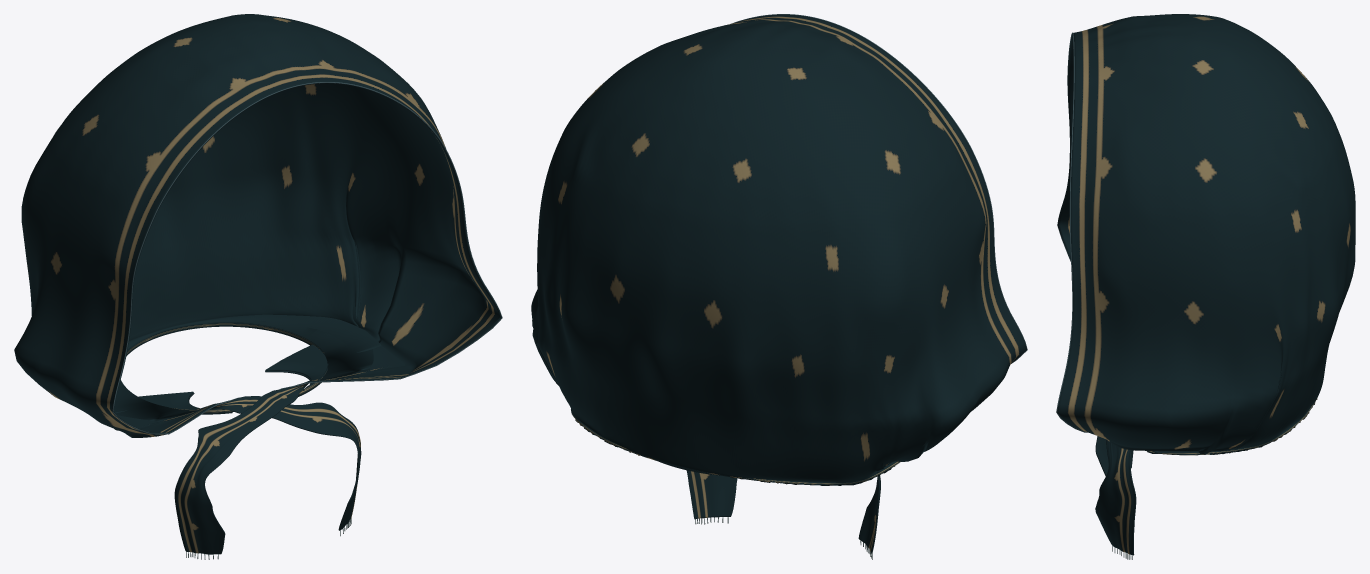
The model's file is Feminine-straight-bandeau-pashmina249-headgear.glb.
The picture shows the model from 3 angles, left to right: view 1: azimuth 30°, elevation 25°; view 2: azimuth 150°, elevation 25°; view 3: azimuth 270°, elevation 25°; orthographic projection. The views are drawn at different scales.
Parts seen in each view (by area): view 1: 226 headgear / Headwear / continuous woven pashmina239, 226 headgear / Headwear / face edge239; view 2: 226 headgear / Headwear / continuous woven pashmina239, 226 headgear / Headwear / face edge239; view 3: 226 headgear / Headwear / continuous woven pashmina239, 226 headgear / Headwear / face edge239.
Part boxes in pixels (x1,y1,x2,y2): 226 headgear / Headwear / continuous woven pashmina239: (14,14,501,554); 226 headgear / Headwear / face edge239: (112,82,502,434); 226 headgear / Headwear / continuous woven pashmina239: (531,14,1026,553); 226 headgear / Headwear / face edge239: (731,14,1027,363); 226 headgear / Headwear / continuous woven pashmina239: (1057,14,1355,555); 226 headgear / Headwear / face edge239: (1056,32,1087,432).
Bounding box in the file's own units: 1.25 × 1.41 × 0.7805.
Materials: 3 (1 with a texture image).
